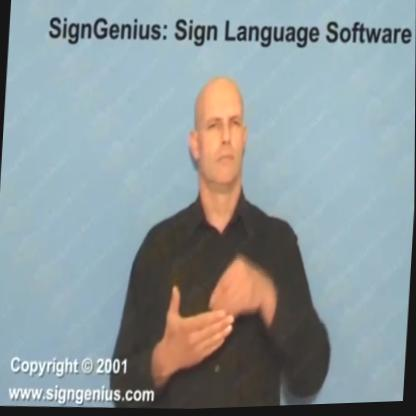Expensive: (151, 243, 283, 373)
